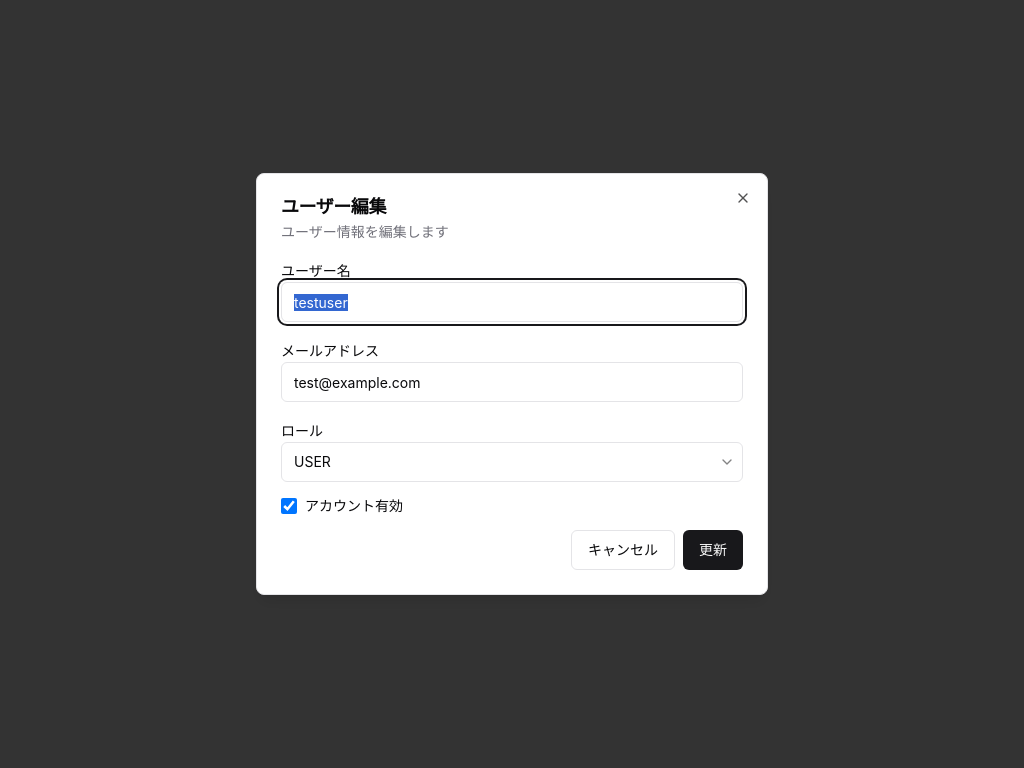
UserFormDialog: 編集モード › username バリデーションエラーを表示する
Clear the field showing "testuser". click: (512, 302)
box: [281, 282, 743, 322]
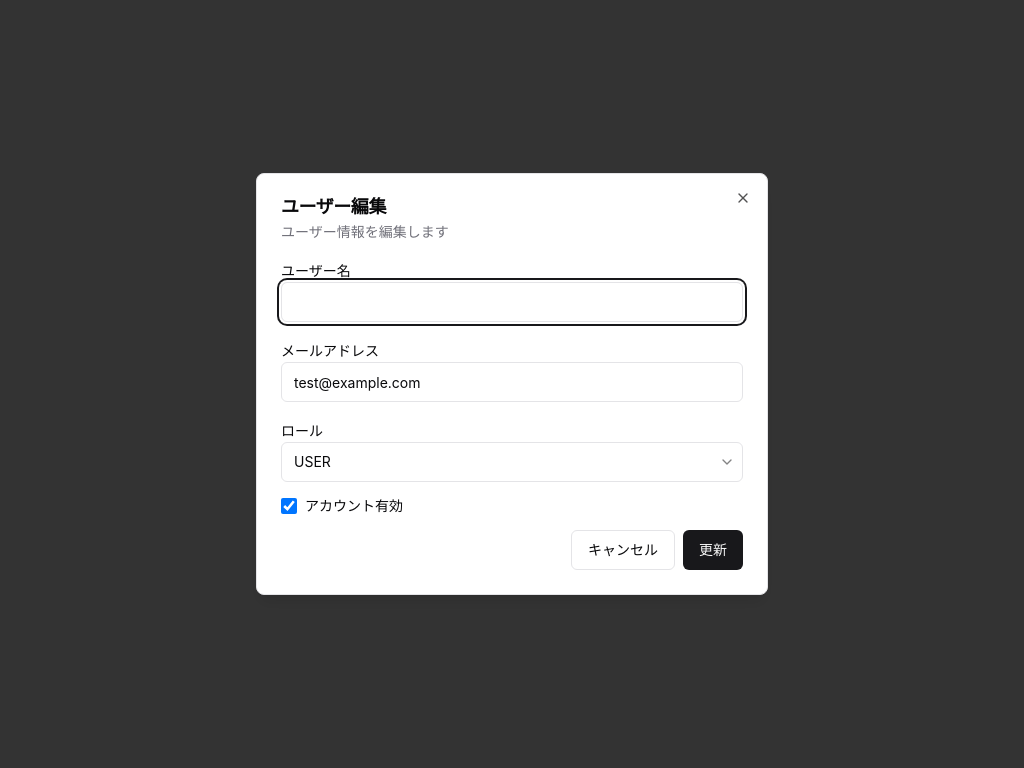
Click the button "更新". click: (713, 550)
box: [683, 530, 743, 570]
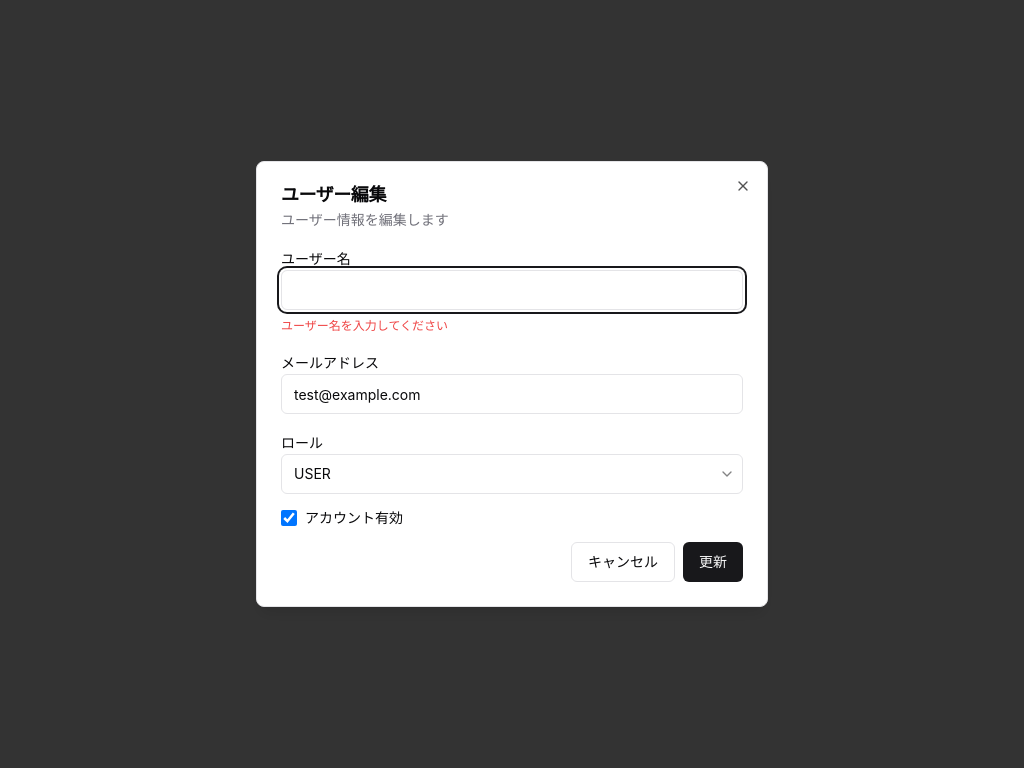
Result: the text "ユーザー名を入力してください" is shown at [281, 318, 448, 333]
